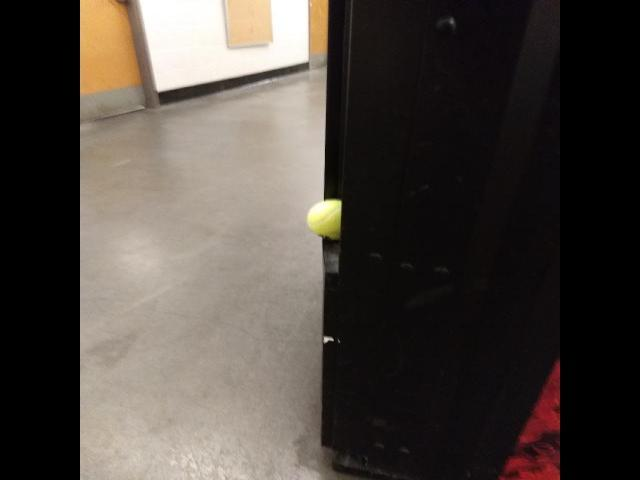tennis-ball: (306, 199, 342, 241)
